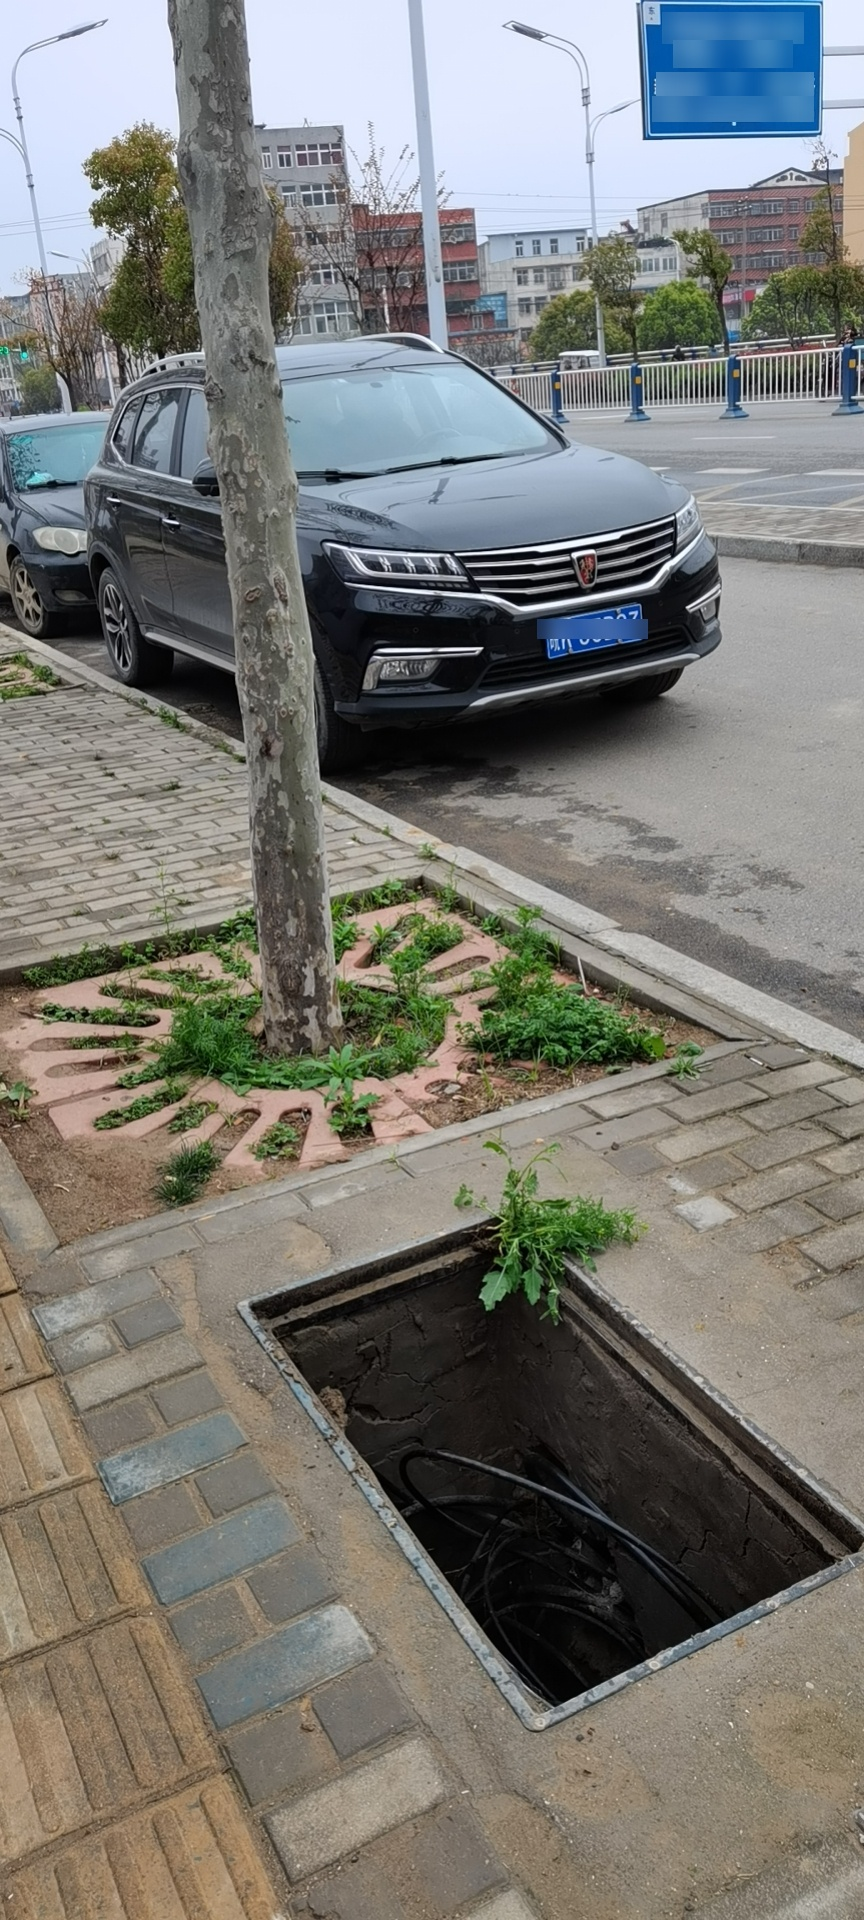lose: (236, 1221, 864, 1749)
